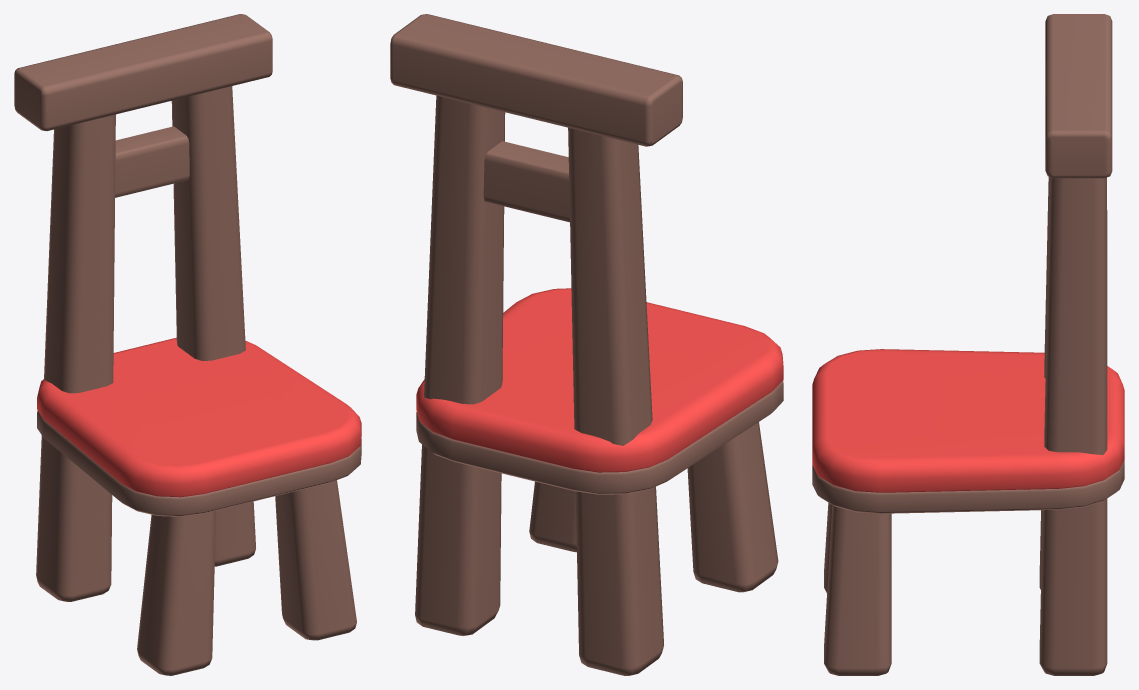
File: Store_20_Chair_1.glb
The picture shows the model from 3 angles, left to right: view 1: azimuth 30°, elevation 25°; view 2: azimuth 150°, elevation 25°; view 3: azimuth 270°, elevation 25°; orthographic projection. The views are drawn at different scales.
Parts seen in each view (by area): view 1: Store_20_Chair_1; view 2: Store_20_Chair_1; view 3: Store_20_Chair_1.
Boxes of the visible parts, <box> form: Store_20_Chair_1: <box>14,14,361,675</box>; Store_20_Chair_1: <box>390,14,783,675</box>; Store_20_Chair_1: <box>812,14,1124,675</box>.
Size of the model in its own units: 0.5707 by 1.22 by 0.6209.
Materials: 1 (1 with a texture image).
